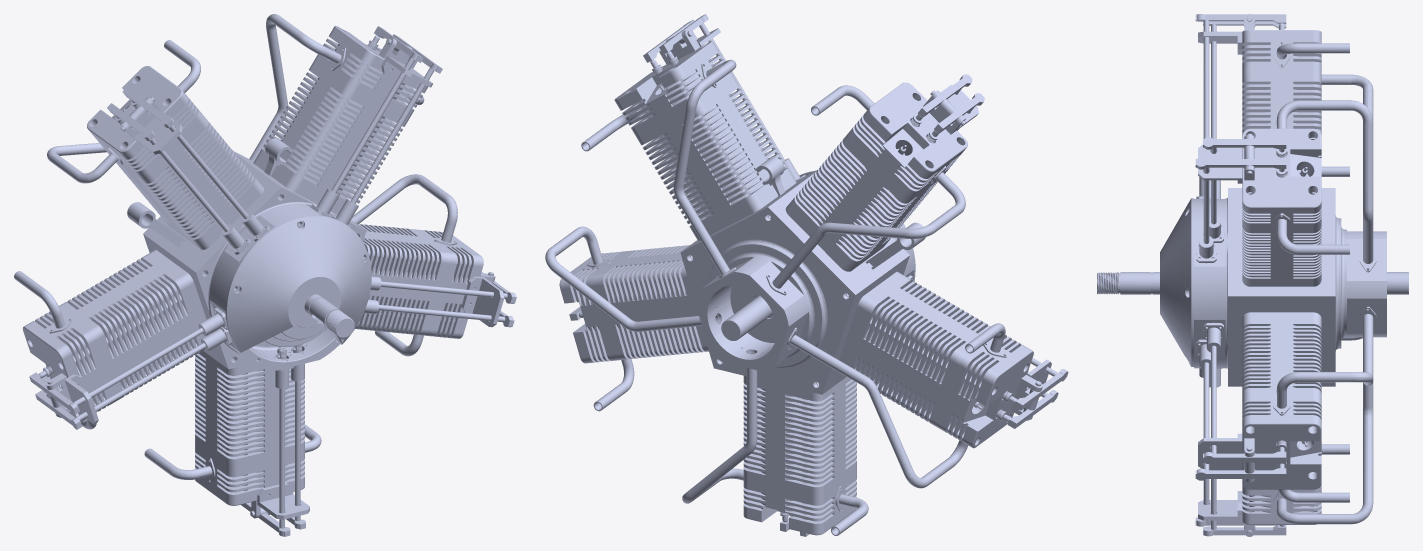
File: radial-engine.glb
3 renders of one model, left to right at view 1: azimuth 30°, elevation 25°; view 2: azimuth 150°, elevation 25°; view 3: azimuth 270°, elevation 25°, orthographic. The views are drawn at different scales.
Parts seen in each view (by area): view 1: 18-Engine Barrel (×5), 17-Engine Head (×5), 51-Front Cover, 45-Follower Shaft (×10), 33-Came Housing, 39-Inlet Pipe (×3), 47-Shaft Support (×5), 41-Exhaust Pipe (×4), 16-Crankcase, 03-Connecting Rod (×2), 13-Front Crankshaft; view 2: 18-Engine Barrel (×5), 17-Engine Head (×5), 49-Cover Crankcase, 39-Inlet Pipe (×5), 41-Exhaust Pipe (×5), 16-Crankcase, 03-Connecting Rod (×2), 11-Rear Crankshaft; view 3: 17-Engine Head (×4), 18-Engine Barrel (×3), 39-Inlet Pipe (×4), 49-Cover Crankcase, 16-Crankcase, 33-Came Housing, 51-Front Cover, 47-Shaft Support (×4), 45-Follower Shaft (×5), 41-Exhaust Pipe (×3), 20-Rocker Arm - 160mm (×3), 20-Rocker Arm - 147mm (×3) (+3 smaller).
Part boxes in pixels (x1=…): 18-Engine Barrel (×5): x1=59, y1=60, x2=450, y2=469; 17-Engine Head (×5): x1=22, y1=25, x2=483, y2=505; 51-Front Cover: x1=225, y1=215, x2=371, y2=352; 45-Follower Shaft (×10): x1=74, y1=57, x2=507, y2=528; 33-Came Housing: x1=193, y1=185, x2=366, y2=370; 39-Inlet Pipe (×3): x1=47, y1=14, x2=457, y2=242; 47-Shaft Support (×5): x1=64, y1=56, x2=504, y2=519; 41-Exhaust Pipe (×4): x1=14, y1=40, x2=423, y2=479; 16-Crankcase: x1=146, y1=152, x2=362, y2=366; 03-Connecting Rod (×2): x1=127, y1=138, x2=292, y2=247; 13-Front Crankshaft: x1=304, y1=294, x2=354, y2=337; 18-Engine Barrel (×5): x1=593, y1=77, x2=990, y2=497; 17-Engine Head (×5): x1=559, y1=41, x2=1033, y2=535; 49-Cover Crankcase: x1=680, y1=205, x2=858, y2=394; 39-Inlet Pipe (×5): x1=545, y1=59, x2=968, y2=503; 41-Exhaust Pipe (×5): x1=581, y1=85, x2=1005, y2=535; 16-Crankcase: x1=684, y1=171, x2=906, y2=392; 03-Connecting Rod (×2): x1=755, y1=157, x2=925, y2=269; 11-Rear Crankshaft: x1=721, y1=295, x2=772, y2=340; 17-Engine Head (×4): x1=1242, y1=30, x2=1321, y2=524; 18-Engine Barrel (×3): x1=1242, y1=70, x2=1321, y2=400; 39-Inlet Pipe (×4): x1=1276, y1=74, x2=1373, y2=524; 49-Cover Crankcase: x1=1330, y1=188, x2=1386, y2=386; 16-Crankcase: x1=1233, y1=188, x2=1329, y2=386; 33-Came Housing: x1=1194, y1=188, x2=1233, y2=386; 51-Front Cover: x1=1160, y1=198, x2=1193, y2=366; 47-Shaft Support (×4): x1=1198, y1=31, x2=1242, y2=520; 45-Follower Shaft (×5): x1=1203, y1=20, x2=1216, y2=470; 41-Exhaust Pipe (×3): x1=1276, y1=43, x2=1349, y2=502; 20-Rocker Arm - 160mm (×3): x1=1195, y1=14, x2=1286, y2=480; 20-Rocker Arm - 147mm (×3): x1=1203, y1=137, x2=1286, y2=536.
Size of the model in its own units: 929 by 893 by 550.
